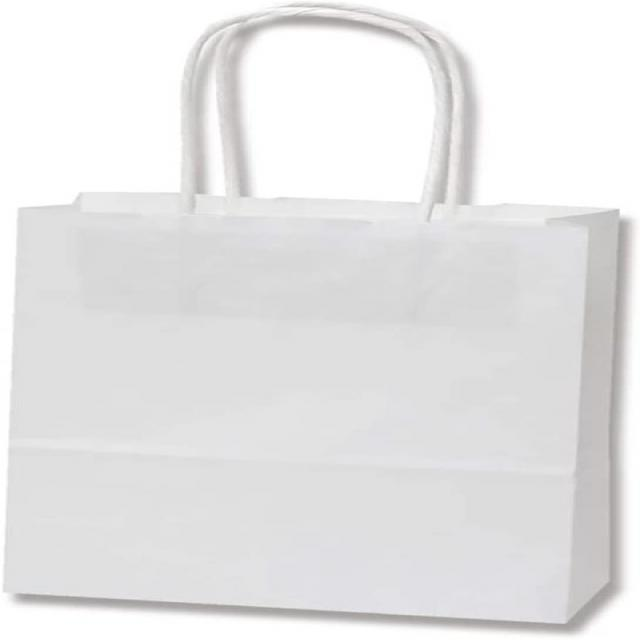paper bag: (2, 1, 630, 629)
